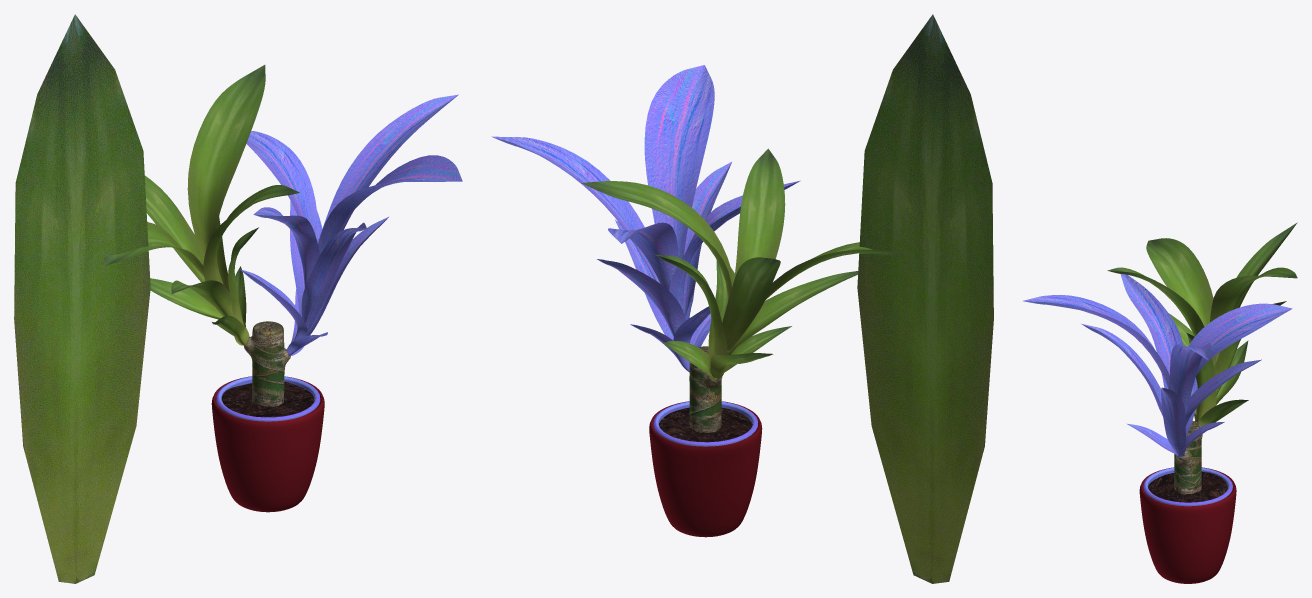
Rendered from indoor_plant.obj.
3 renders of one model, left to right at view 1: azimuth 30°, elevation 25°; view 2: azimuth 150°, elevation 25°; view 3: azimuth 270°, elevation 25°, orthographic. The views are drawn at different scales.
Visible parts, largest first — view 1: Plane_Plane.001, indoor_plant_02; view 2: Plane_Plane.001, indoor_plant_02; view 3: indoor_plant_02.
Boxes of the visible parts, x1=… form: Plane_Plane.001: x1=14, y1=14, x2=150, y2=583; indoor_plant_02: x1=103, y1=65, x2=462, y2=512; Plane_Plane.001: x1=857, y1=14, x2=993, y2=583; indoor_plant_02: x1=491, y1=65, x2=902, y2=537; indoor_plant_02: x1=1023, y1=222, x2=1297, y2=583.
Bounding box in the file's own units: 8.26 × 9.49 × 4.86.
Materials: 7 (7 with a texture image).
